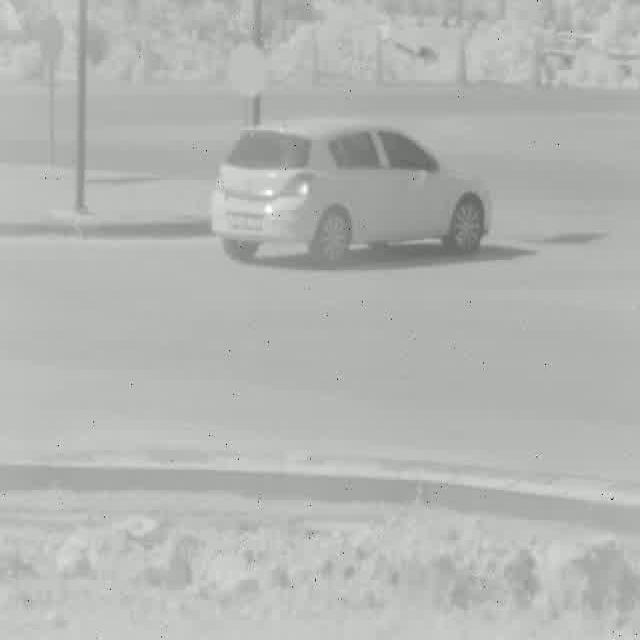Car: (208, 120, 494, 259)
